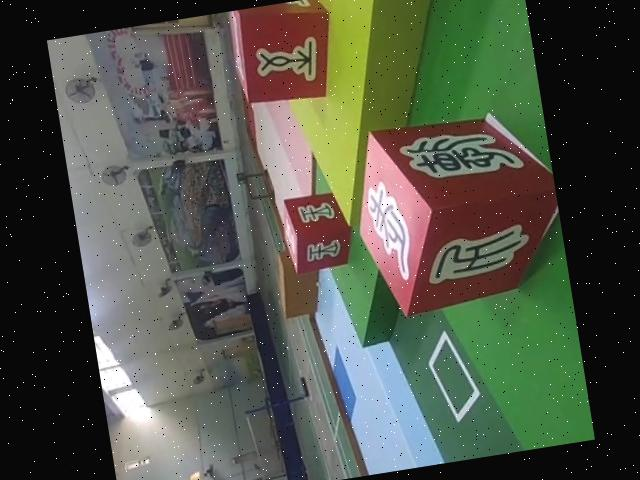R2 Fake: (340, 101, 572, 326)
R2 Real: (221, 0, 341, 112), (273, 188, 357, 278)
